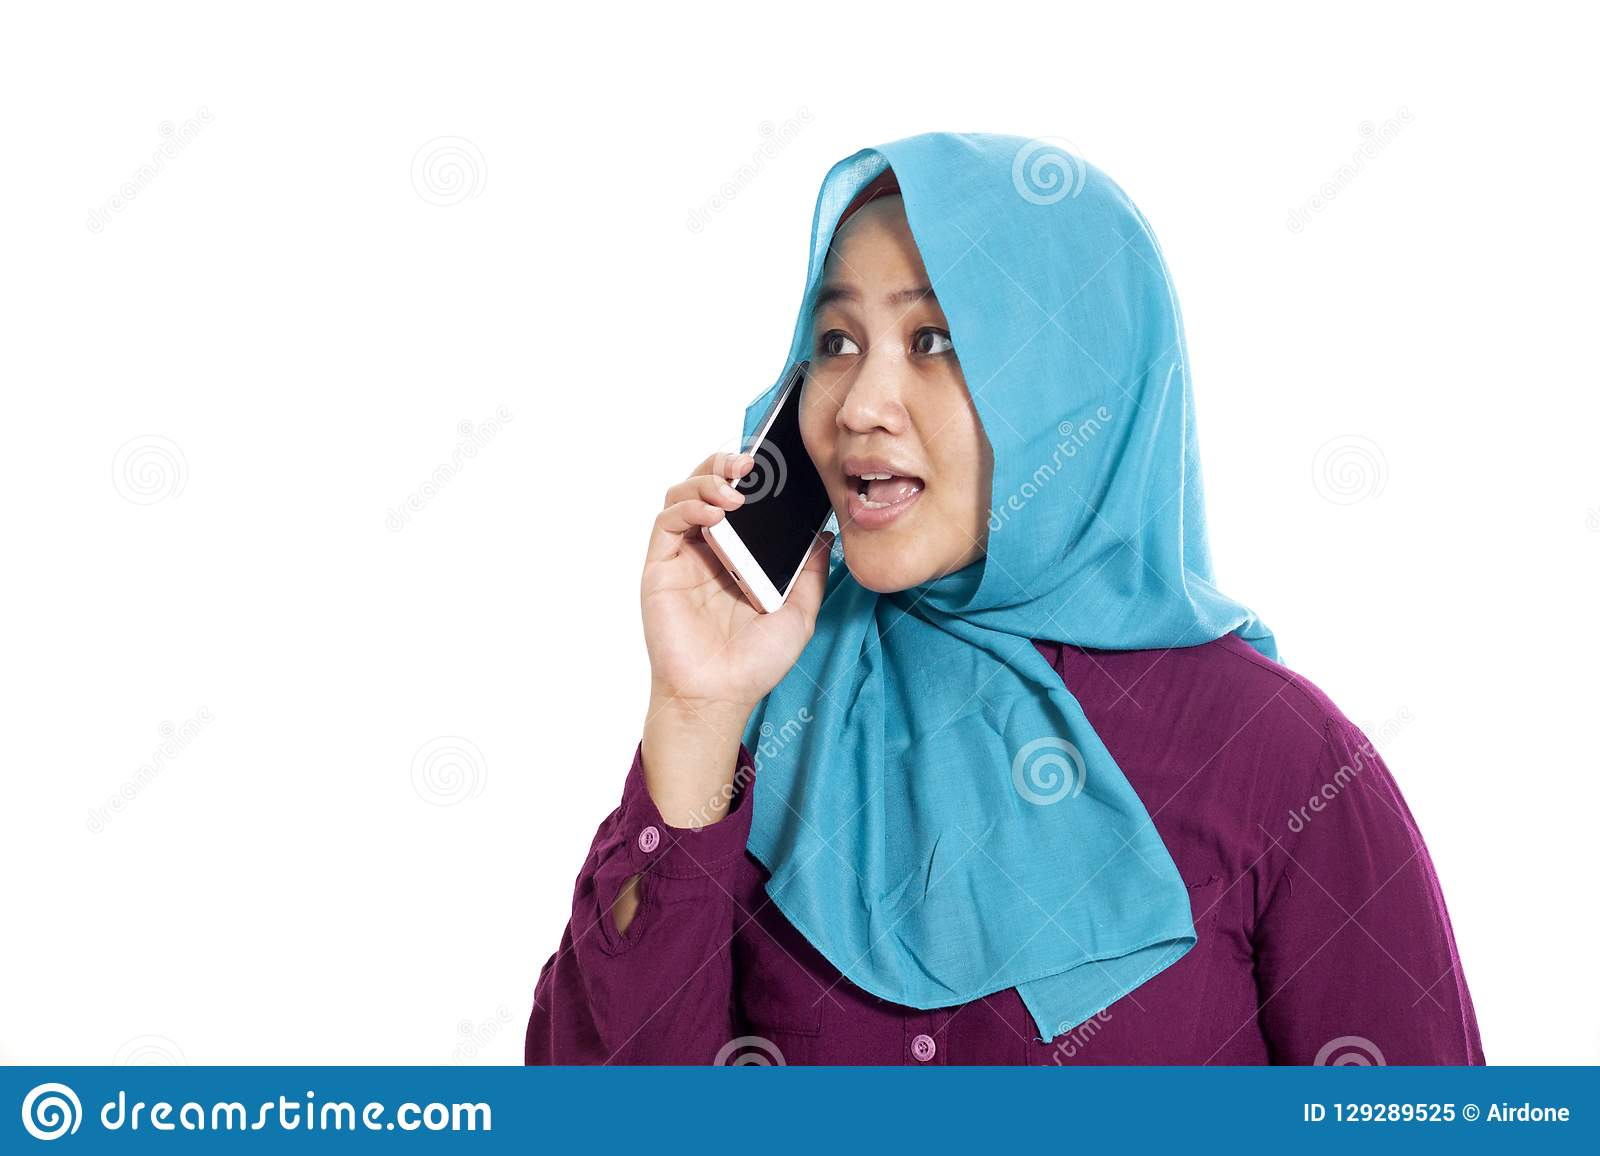phone: (702, 363, 832, 637)
talk: (626, 271, 965, 714)
